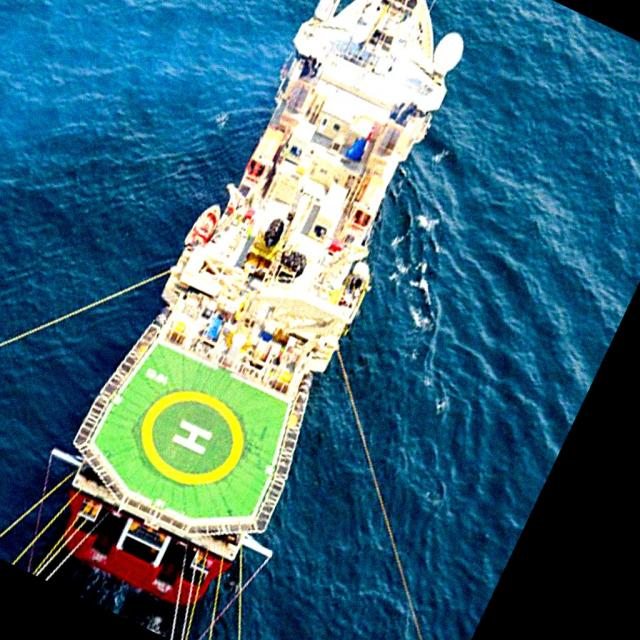helipad: (134, 384, 250, 489)
